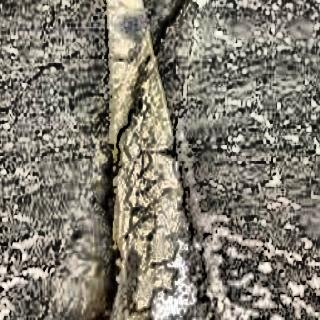crack: (69, 0, 190, 320), (156, 104, 228, 320), (203, 188, 320, 320), (182, 106, 320, 196), (0, 224, 68, 318)
